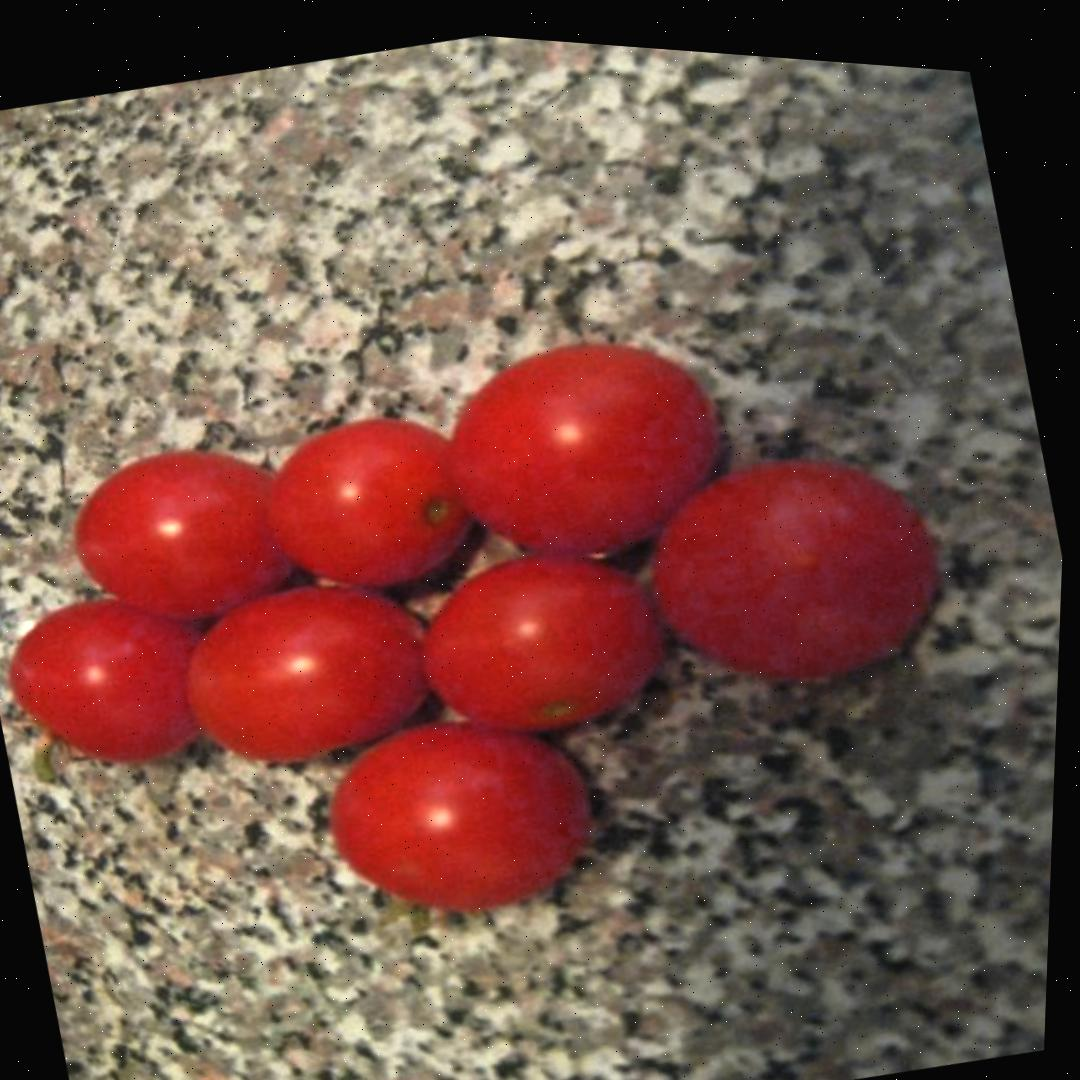matang: (629, 419, 964, 717), (424, 307, 744, 592), (306, 683, 616, 946), (165, 552, 453, 789), (403, 523, 684, 764), (59, 419, 321, 651), (249, 392, 493, 615), (0, 568, 230, 793)
